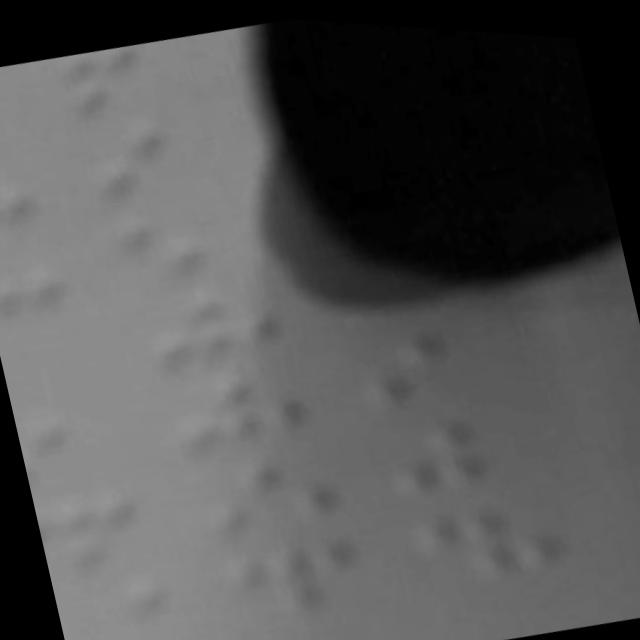braiile: (334, 279, 520, 413), (368, 379, 558, 506), (402, 470, 590, 595), (123, 243, 301, 374), (205, 509, 382, 634), (176, 420, 346, 549), (67, 89, 248, 210), (147, 340, 320, 465), (89, 171, 258, 289), (31, 468, 158, 582)
